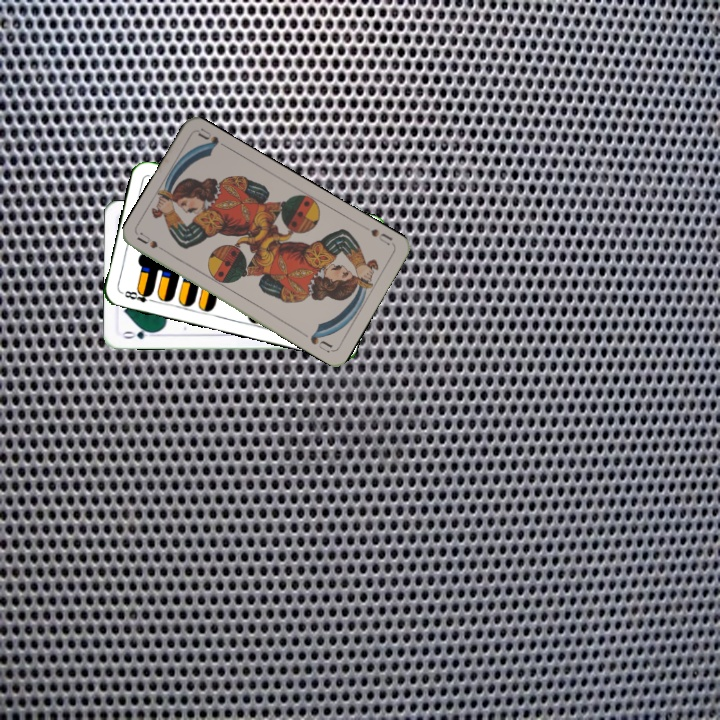E8: (118, 286, 158, 305)
GO: (118, 325, 158, 342)
SU: (133, 228, 172, 257), (359, 222, 396, 248)
